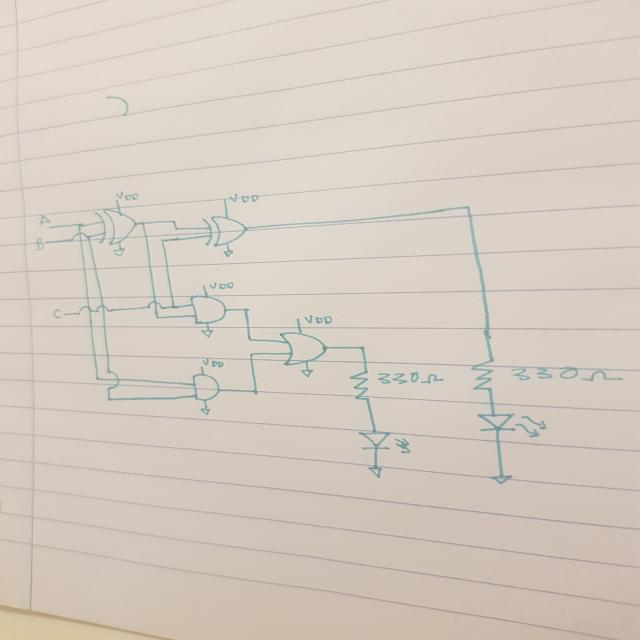crossover: (106, 370, 120, 391), (71, 232, 90, 242), (146, 300, 164, 310), (94, 304, 111, 314), (78, 306, 92, 315)
diode: (475, 411, 548, 440), (356, 430, 413, 456)
ground: (488, 474, 514, 486), (367, 464, 383, 479), (198, 406, 212, 417), (200, 328, 214, 339), (300, 368, 314, 379), (112, 248, 126, 258), (222, 249, 234, 258)
junction: (171, 220, 180, 230), (75, 221, 83, 228), (464, 204, 472, 211), (158, 238, 167, 244), (153, 314, 162, 320), (248, 352, 257, 358), (357, 345, 367, 350), (242, 307, 250, 313), (105, 396, 113, 402), (252, 388, 260, 394), (245, 337, 254, 342), (140, 220, 147, 226), (94, 376, 100, 382), (170, 304, 176, 309)
resistor: (469, 356, 498, 394), (348, 368, 374, 402)
source: (114, 199, 120, 203), (223, 198, 227, 202), (202, 284, 206, 288), (295, 318, 300, 321), (200, 366, 204, 369)
terminal: (45, 224, 57, 232), (44, 240, 55, 246), (62, 312, 70, 317)
text: (508, 364, 624, 382), (375, 371, 448, 385), (115, 188, 141, 201), (229, 192, 259, 203), (303, 315, 333, 325), (202, 357, 225, 368), (208, 281, 234, 290), (38, 214, 52, 226), (34, 237, 44, 251), (52, 308, 62, 319)
